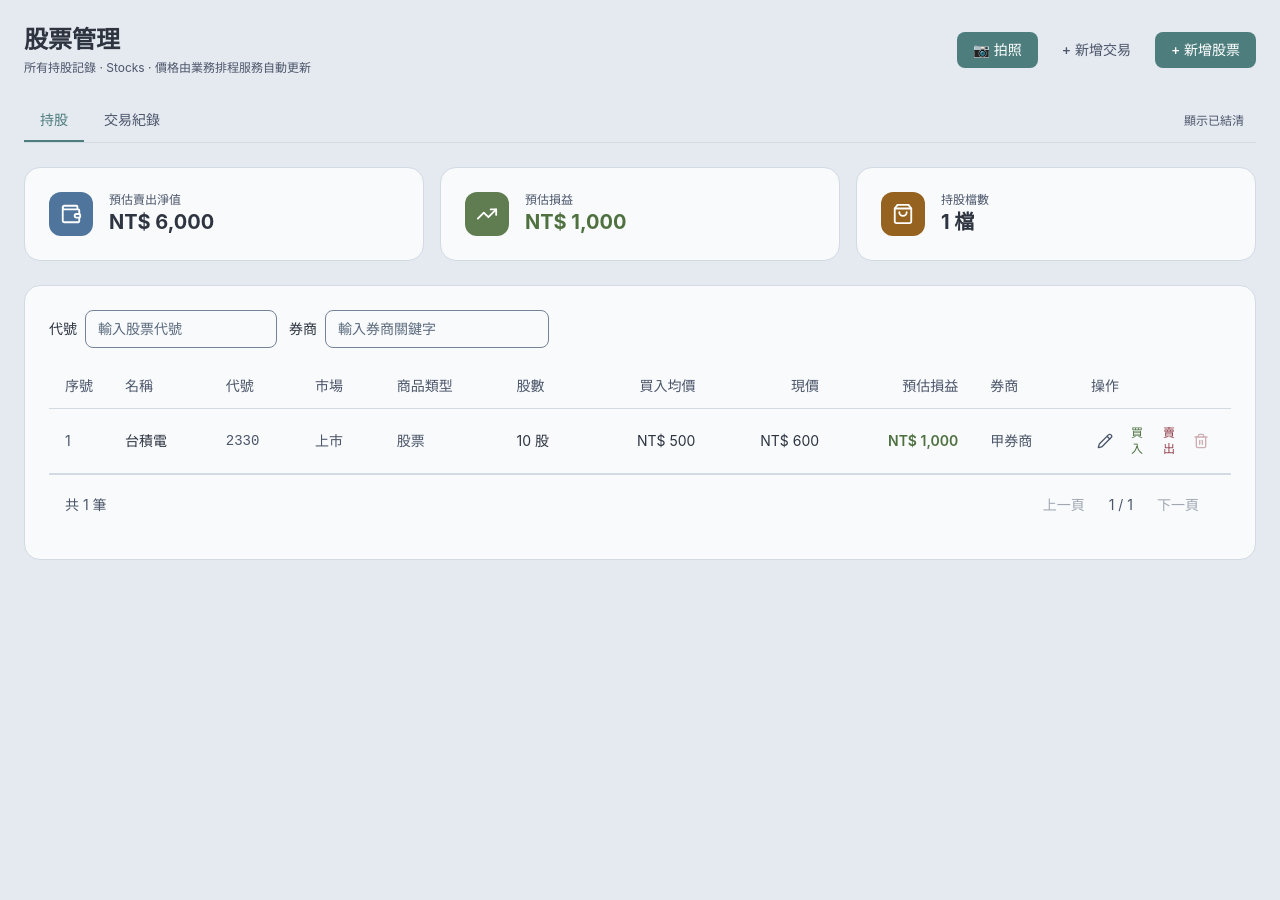
Scenario: StocksPage ledger contract › passes error stock options status to the transaction modal
Click the button with test id "new-stock-transaction" at (1096, 50), box [1046,32,1147,68]
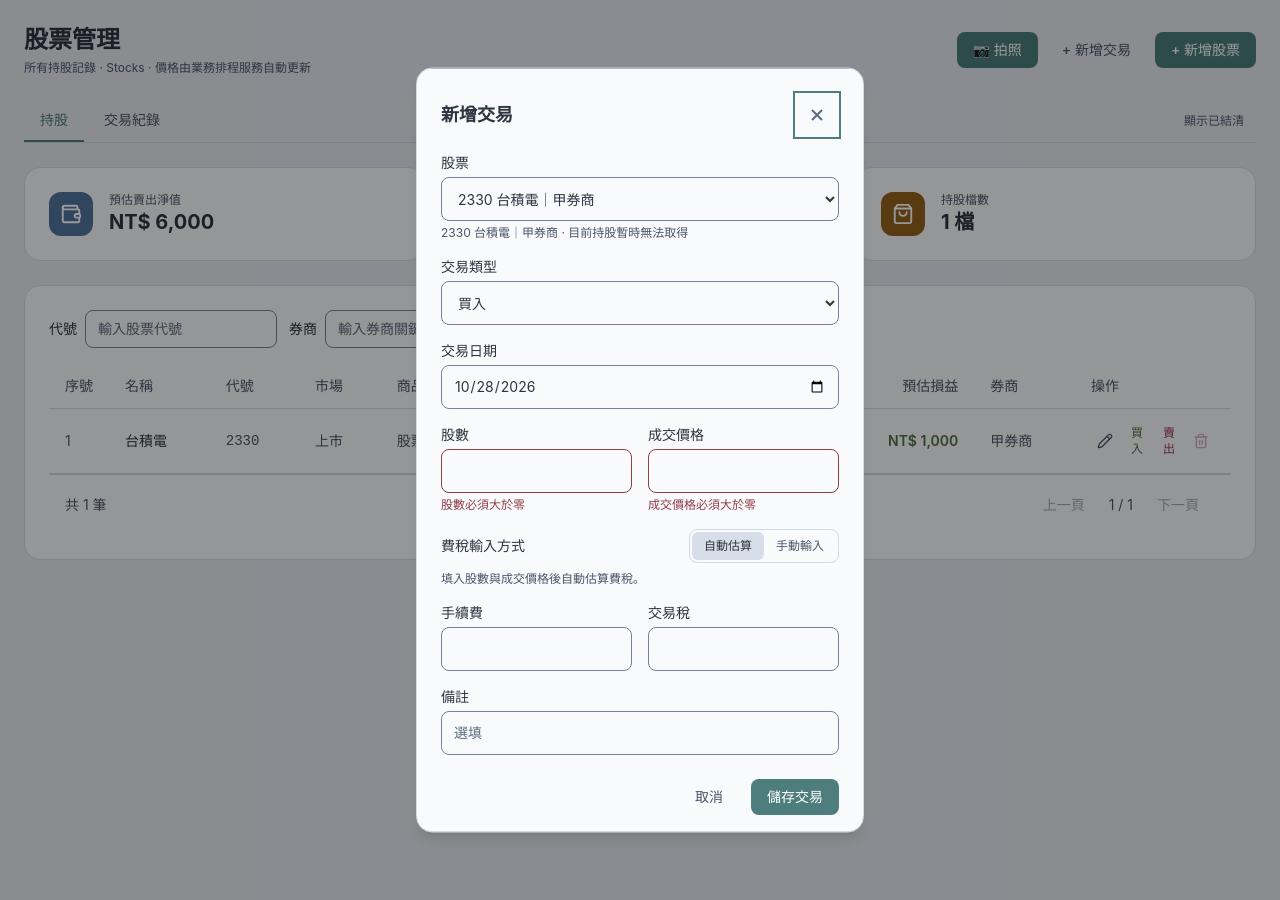
Check: the text "目前持股暫時無法取得" is shown, box [562,224,688,240]
